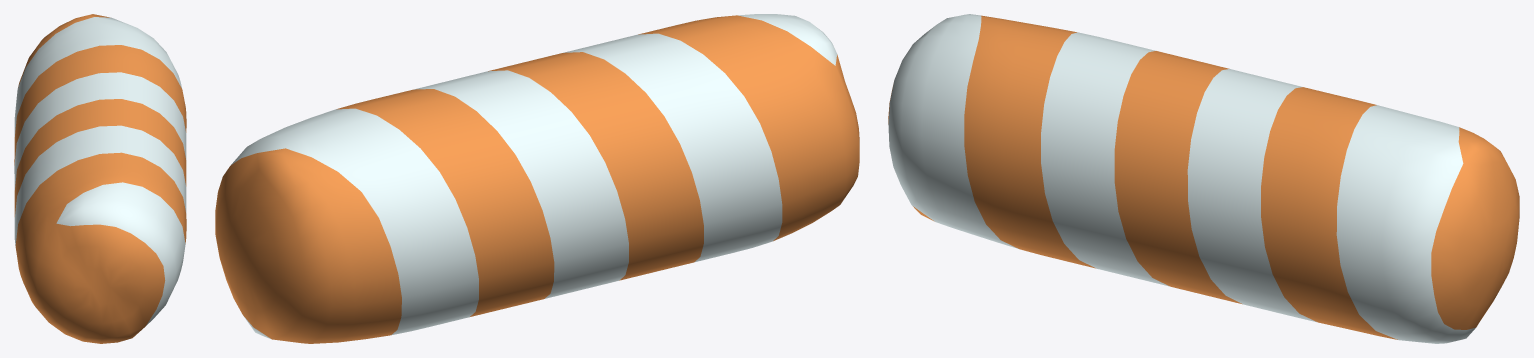
The model's file is Candybar_A_02.fbx.
3 views of the same model, side by side, from view 1: azimuth 30°, elevation 25°; view 2: azimuth 150°, elevation 25°; view 3: azimuth 270°, elevation 25° (orthographic). The views are drawn at different scales.
Visible parts, largest first — view 1: Candybar_A_02_LOD0; view 2: Candybar_A_02_LOD0; view 3: Candybar_A_02_LOD0.
Boxes of the visible parts, x1,y1,x2,y2 form: Candybar_A_02_LOD0: [14, 14, 186, 343]; Candybar_A_02_LOD0: [215, 14, 859, 343]; Candybar_A_02_LOD0: [888, 14, 1519, 343].
Size of what is drawn, in the model's own units: 549 by 266 by 742.
